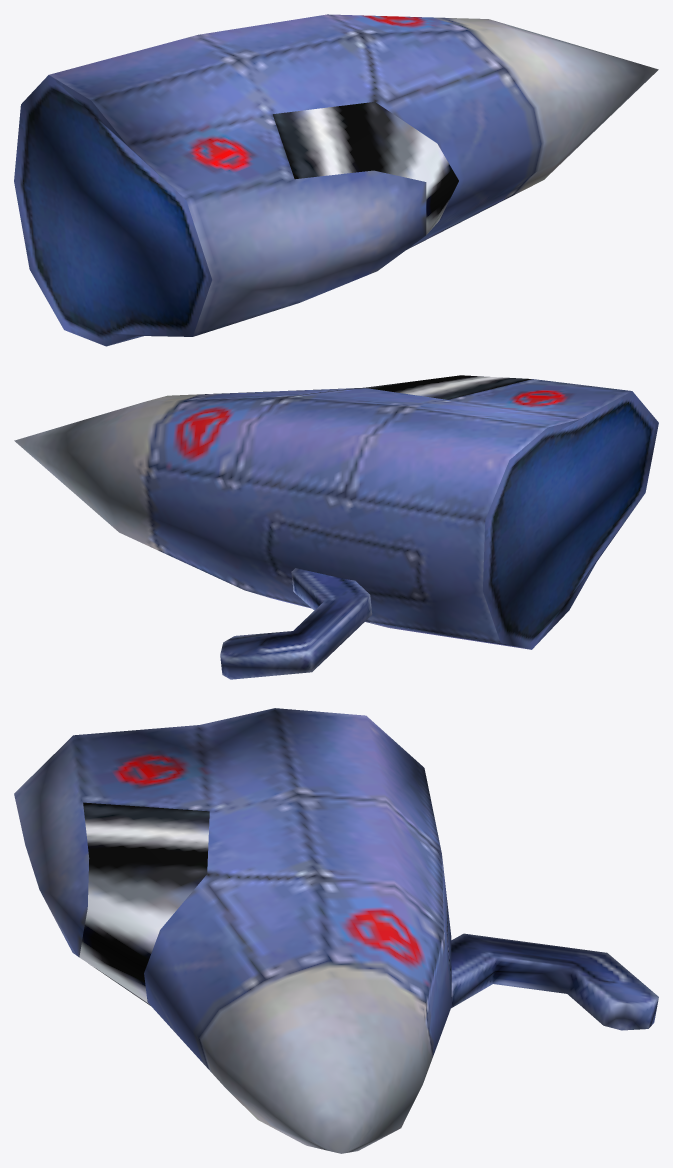
The model's file is Robot01.LeftShoulder2.fbx.
3 renders of one model, top to bottom at view 1: azimuth 30°, elevation 25°; view 2: azimuth 150°, elevation 25°; view 3: azimuth 270°, elevation 25°, orthographic. The views are drawn at different scales.
Parts seen in each view (by area): view 1: mesh_1027; view 2: mesh_1027; view 3: mesh_1027.
Boxes of the visible parts, bbox=[...] form: mesh_1027: bbox=[14, 14, 658, 346]; mesh_1027: bbox=[14, 375, 658, 679]; mesh_1027: bbox=[14, 708, 658, 1153].
Bounding box in the file's own units: 79.49 × 31.43 × 70.76.
